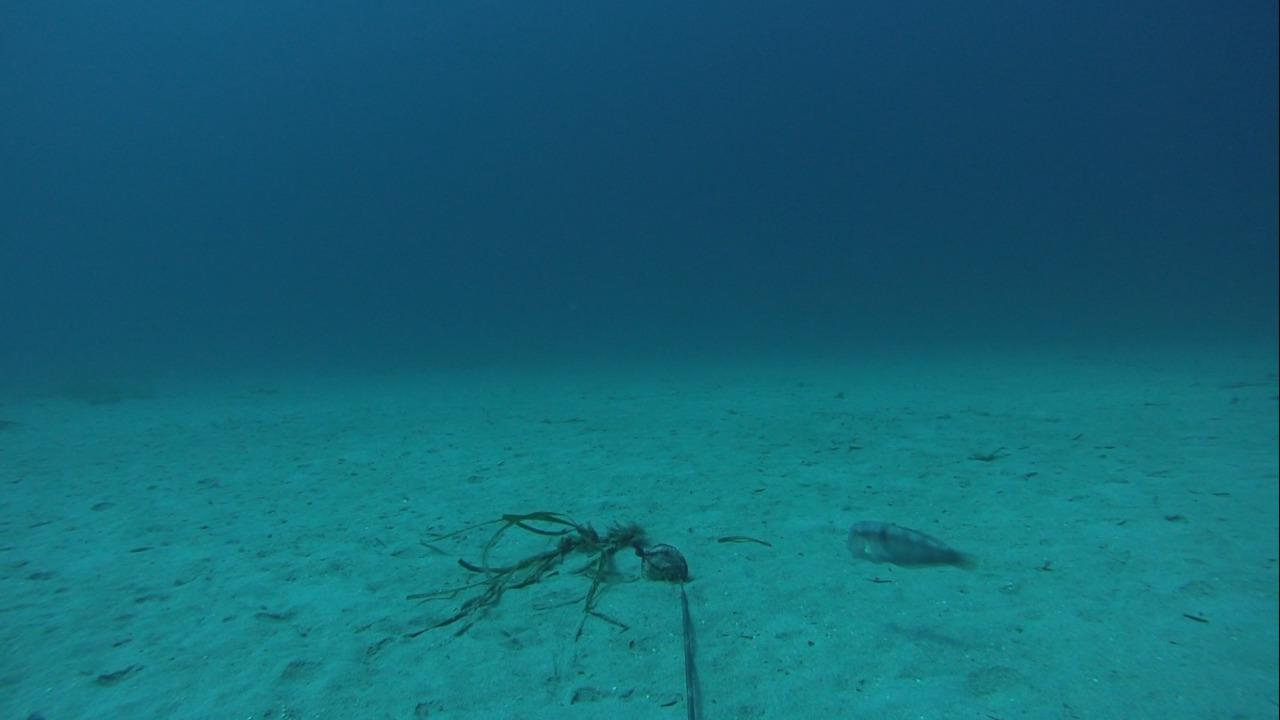raor: (841, 512, 985, 572)
